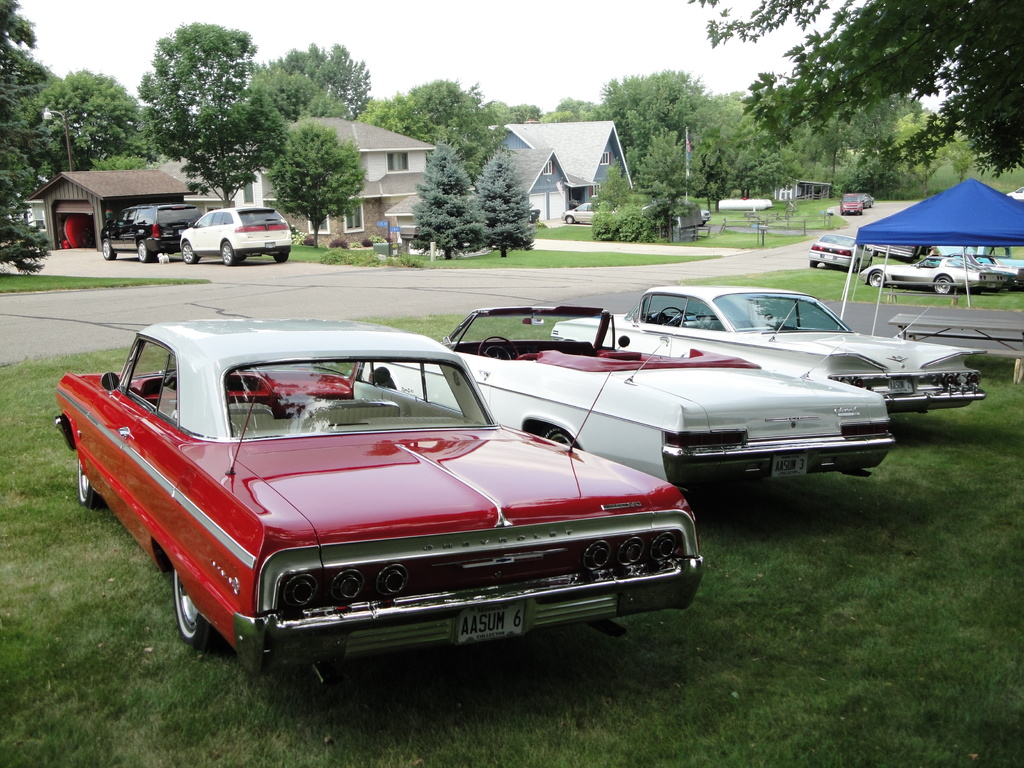Car: (51, 314, 705, 690), (356, 301, 897, 501), (547, 282, 986, 414), (806, 232, 1023, 291), (181, 203, 290, 264), (96, 203, 203, 261), (837, 190, 862, 214), (863, 194, 873, 207)
